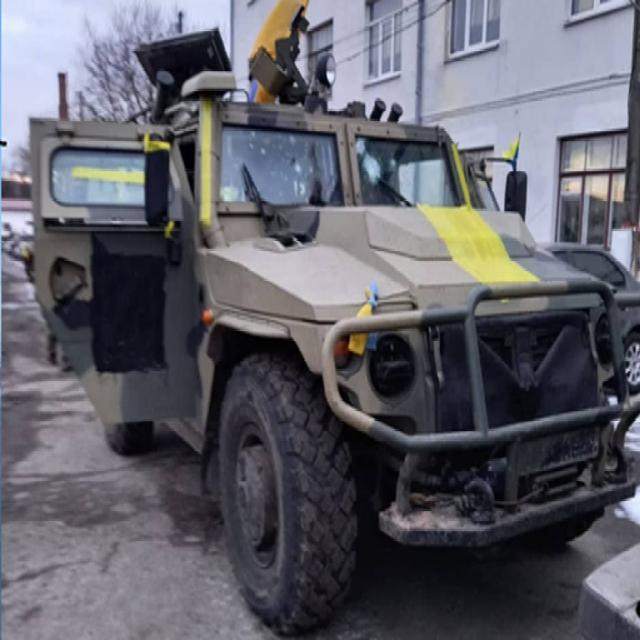CAR: (23, 22, 636, 629)
